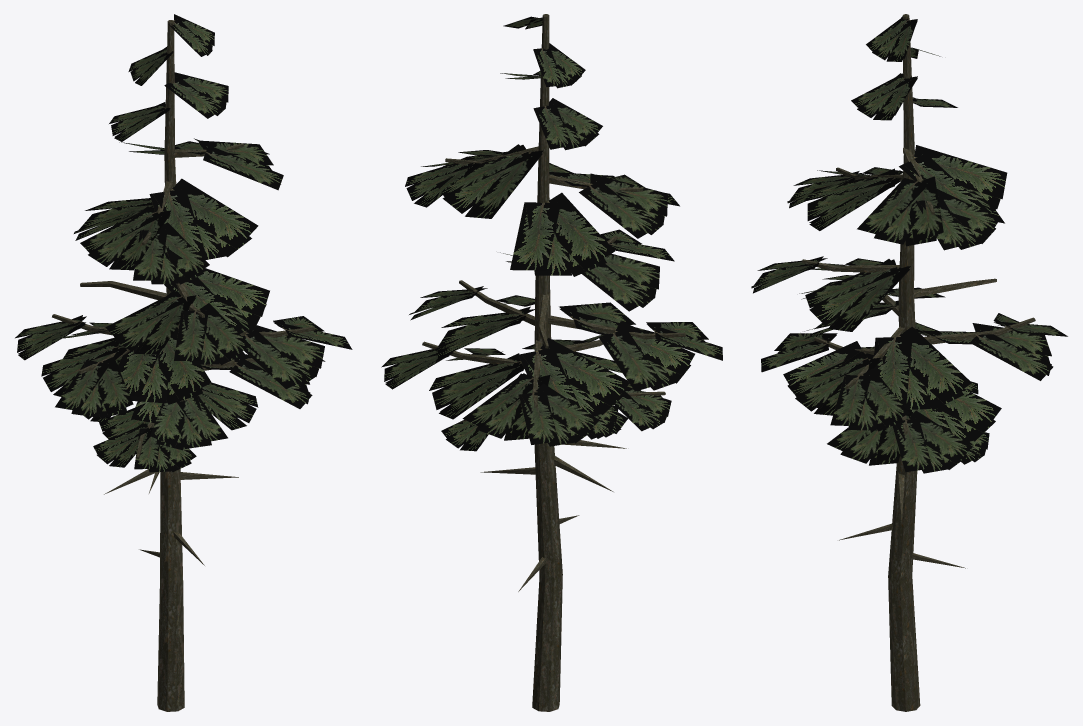
File: Pine_atlas.fbx
3 views of the same model, side by side, from view 1: azimuth 30°, elevation 25°; view 2: azimuth 150°, elevation 25°; view 3: azimuth 270°, elevation 25° (orthographic).
Visible parts, largest first — view 1: Plane.041; view 2: Plane.041; view 3: Plane.041.
Boxes of the visible parts, <box> form: Plane.041: <box>15,14,352,711</box>; Plane.041: <box>381,14,722,711</box>; Plane.041: <box>751,14,1067,711</box>.
Bounding box in the file's own units: 367 × 801 × 333.
